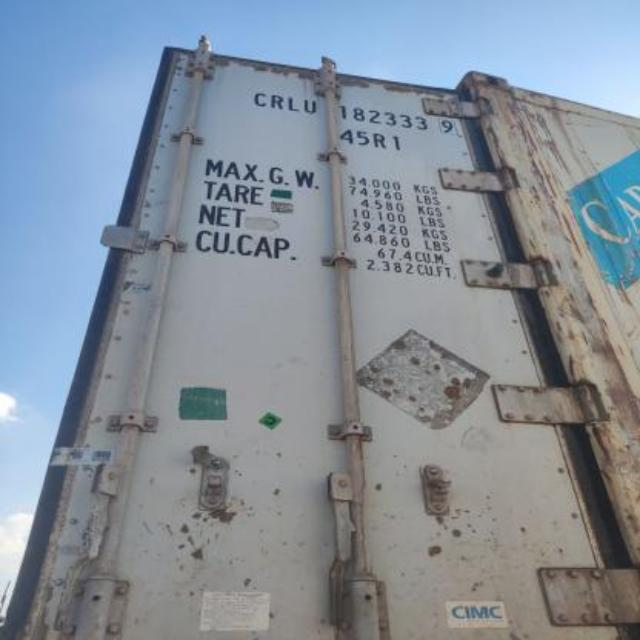1: (337, 95, 347, 124)
2: (363, 100, 381, 128)
3: (394, 108, 414, 132), (381, 102, 399, 128), (414, 109, 430, 135)
8: (348, 100, 364, 124)
9: (439, 112, 463, 138)
C: (250, 83, 266, 113)
L: (283, 88, 301, 116)
R: (267, 86, 283, 115)
U: (302, 90, 322, 118)
